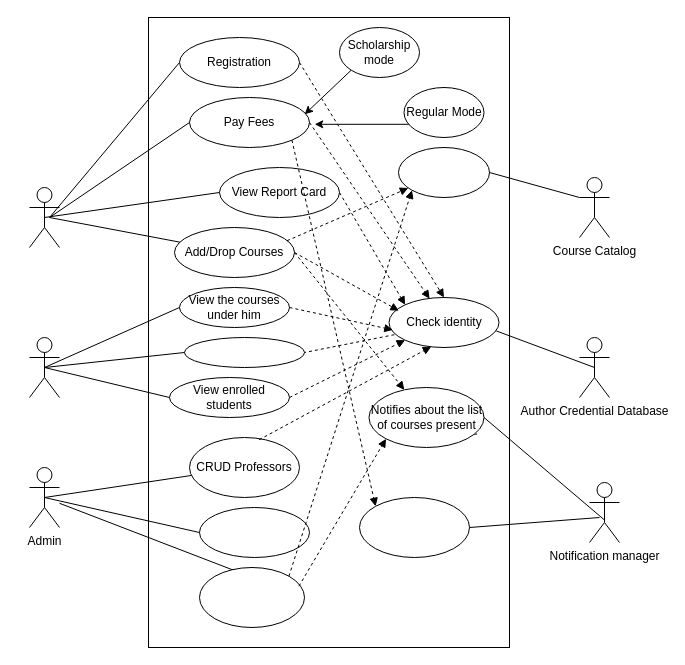
The diagram is 685 pixels wide and 665 high, and some of its shapes have lost their labels. The centre of each missing label's shape, as x and y in pixels:
"Add/remove a course to the catalog" goes at (x=251, y=597).
"Check Constraints" goes at (x=444, y=172).
"Generate Report Card" goes at (x=254, y=532).
"Generates and sends a bill report" goes at (x=414, y=527).
"Proffessor" goes at (x=44, y=367).
"Student" goes at (x=44, y=217).
"Submit grades" goes at (x=244, y=352).
